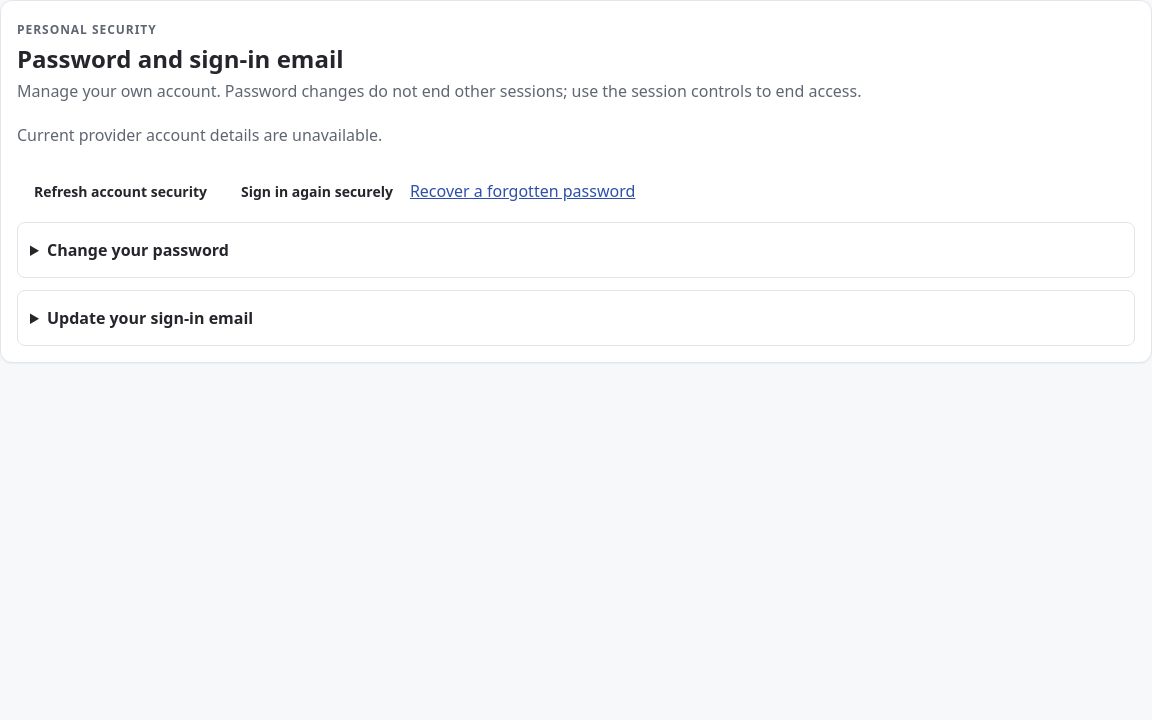
it: personal password and email controls › does not dispatch mismatched passwords
Click the heading "Change your password". click: (138, 250)
box: [47,239,229,261]
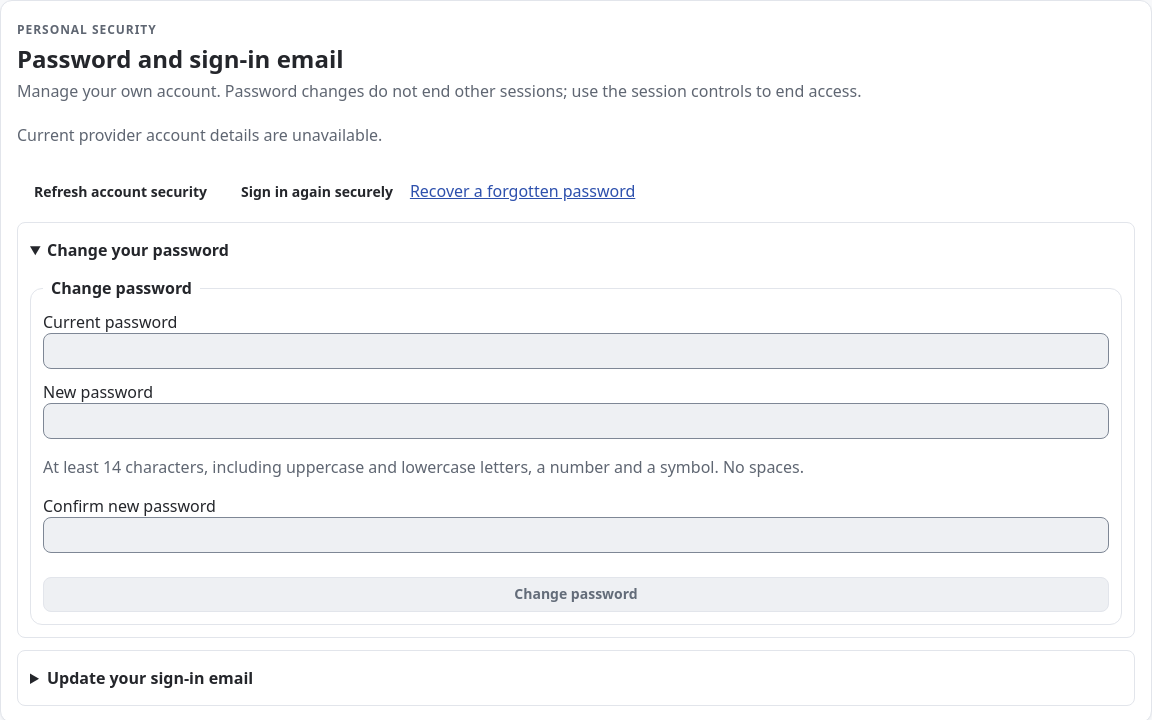
Click the heading "Update your sign-in email". click: (150, 678)
box: [47,667,253,689]
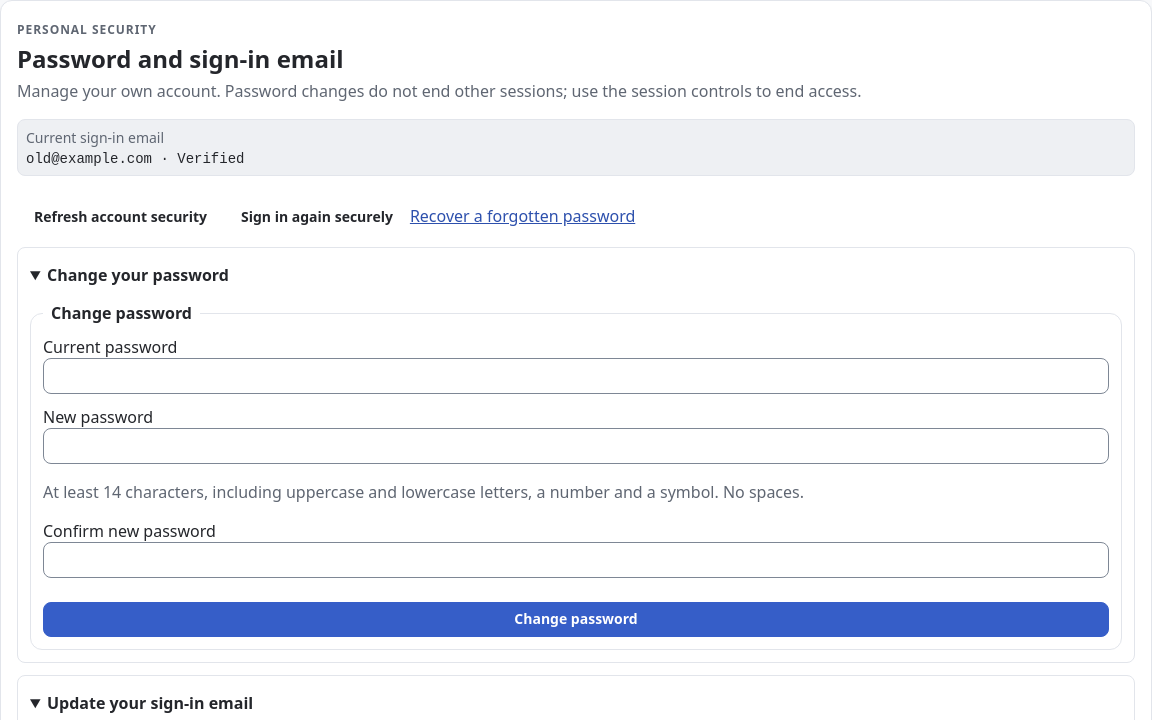
Check: the button "Change password" is enabled, box [43,602,1109,637]
Type "Synthetic-old-Password1!" into the password field labelled "Current password". click: (576, 376)
box: [43,358,1109,394]
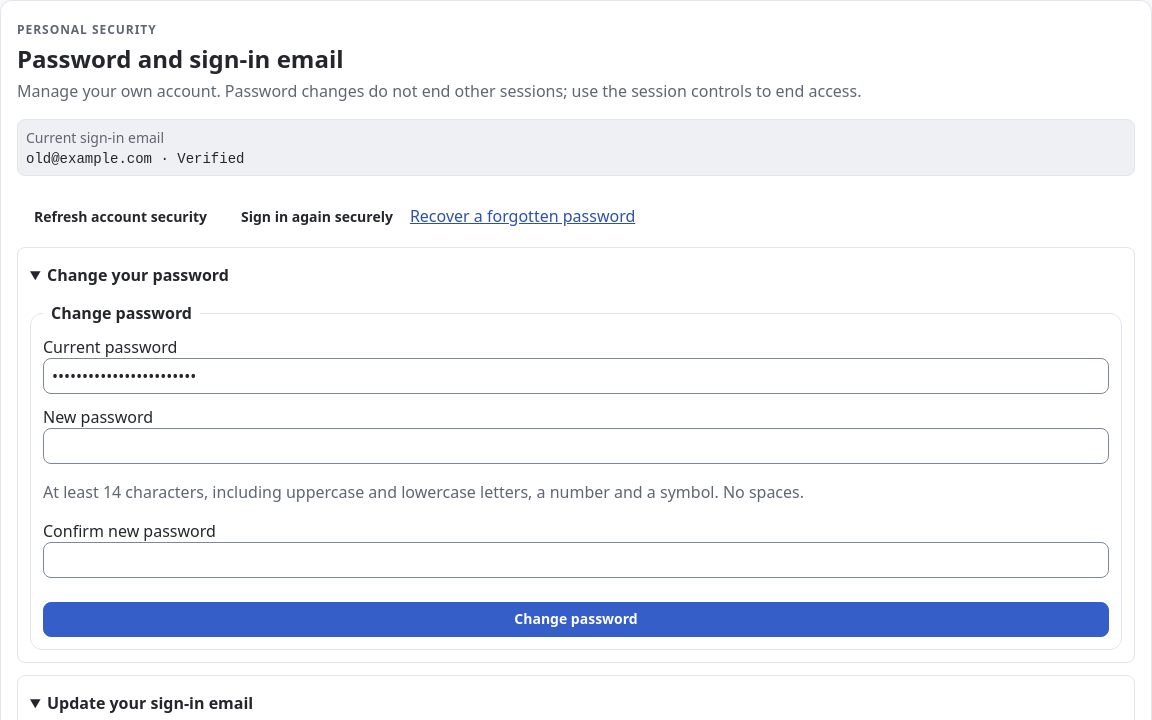
Type "Synthetic-new-Password2!" into the password field labelled "New password". click: (576, 446)
box: [43,428,1109,464]
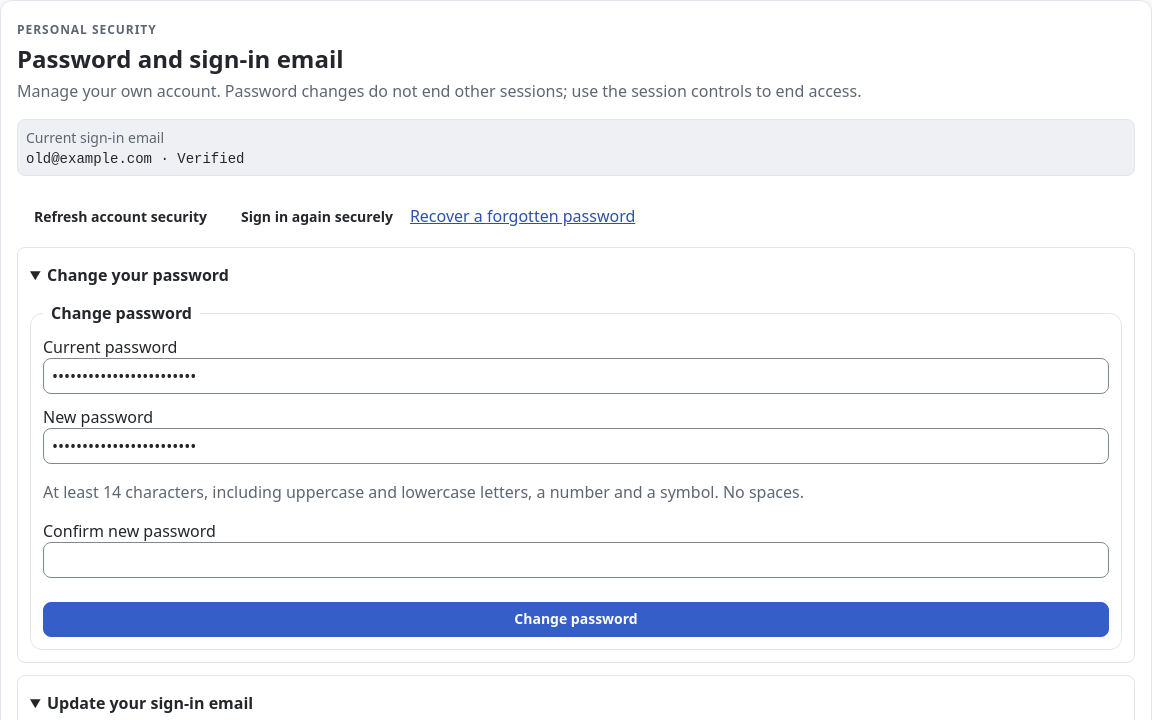
Type "Does-not-match3!" into the password field labelled "Confirm new password". click: (576, 560)
box: [43,542,1109,578]
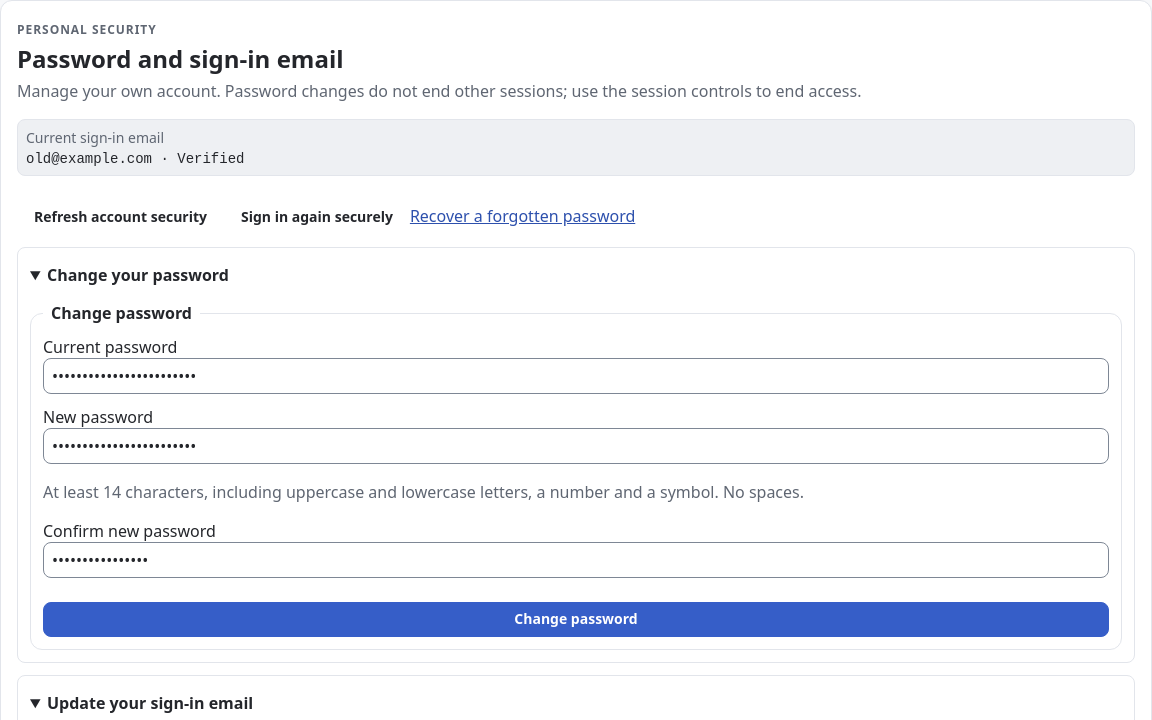
Click the button "Change password". click: (576, 620)
box: [43,602,1109,637]
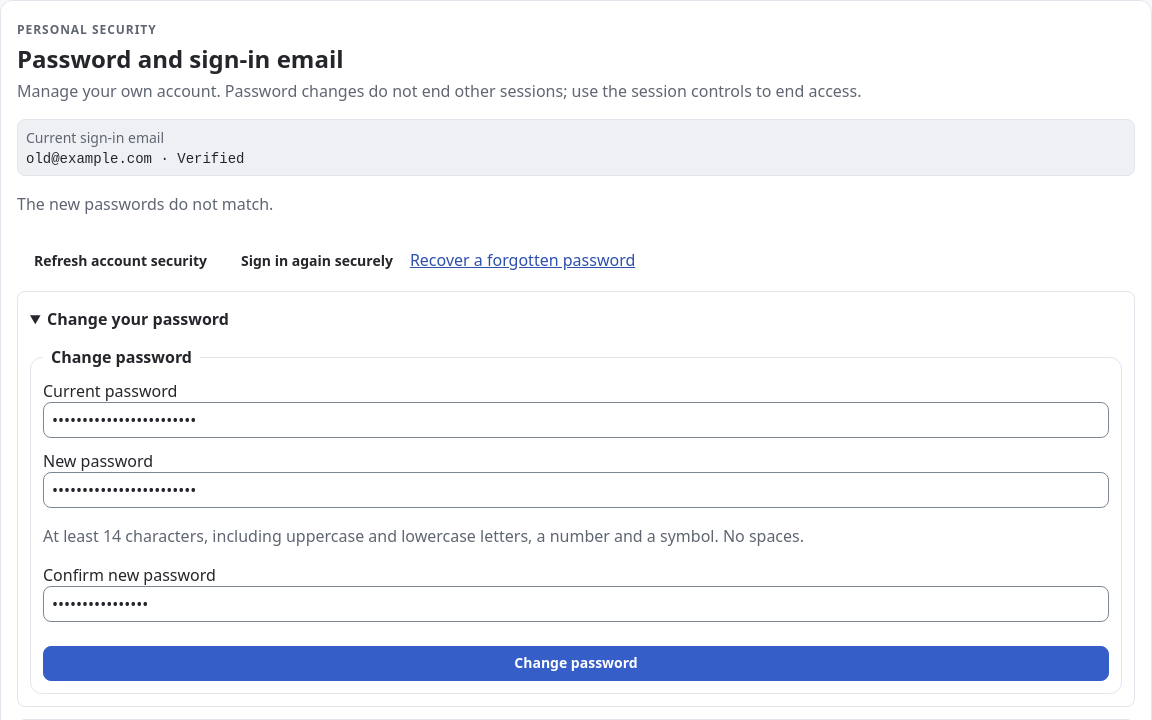
Check: the text "The new passwords do not match." is shown, box [17,193,273,215]
